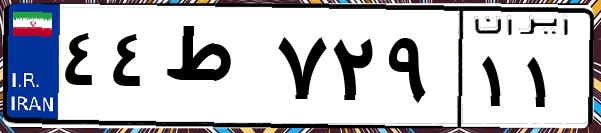1: (475, 38, 525, 113), (525, 38, 570, 115)
2: (330, 28, 385, 110)
4: (57, 26, 110, 100), (110, 28, 158, 98)
7: (270, 28, 330, 110)
9: (385, 28, 445, 110)
ط: (158, 20, 270, 120)
